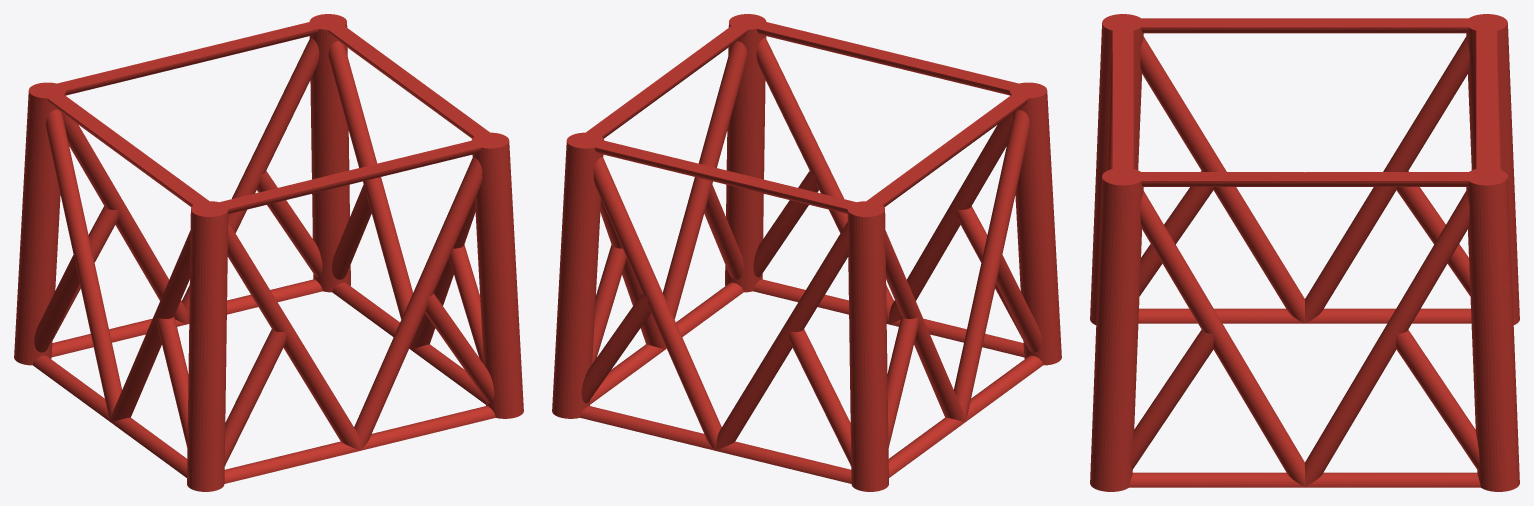
3 renders of one model, left to right at view 1: azimuth 30°, elevation 25°; view 2: azimuth 150°, elevation 25°; view 3: azimuth 270°, elevation 25°, orthographic. The views are drawn at different scales.
Visible parts, largest first — view 1: H21-H22; view 2: H21-H22; view 3: H21-H22.
Boxes of the visible parts, x1,y1,x2,y2 form: H21-H22: (14, 14, 523, 491); H21-H22: (552, 14, 1061, 491); H21-H22: (1090, 14, 1519, 491).
Bounding box in the file's own units: 10.21 × 7.9 × 10.21.
